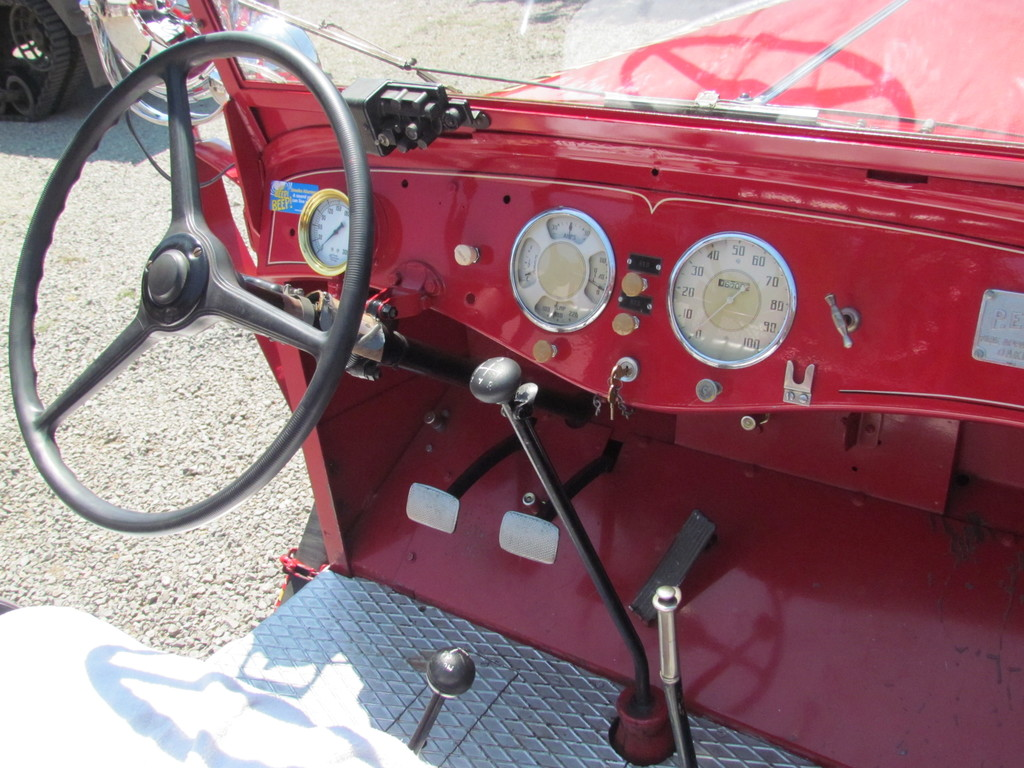Car: (1, 11, 1024, 755)
